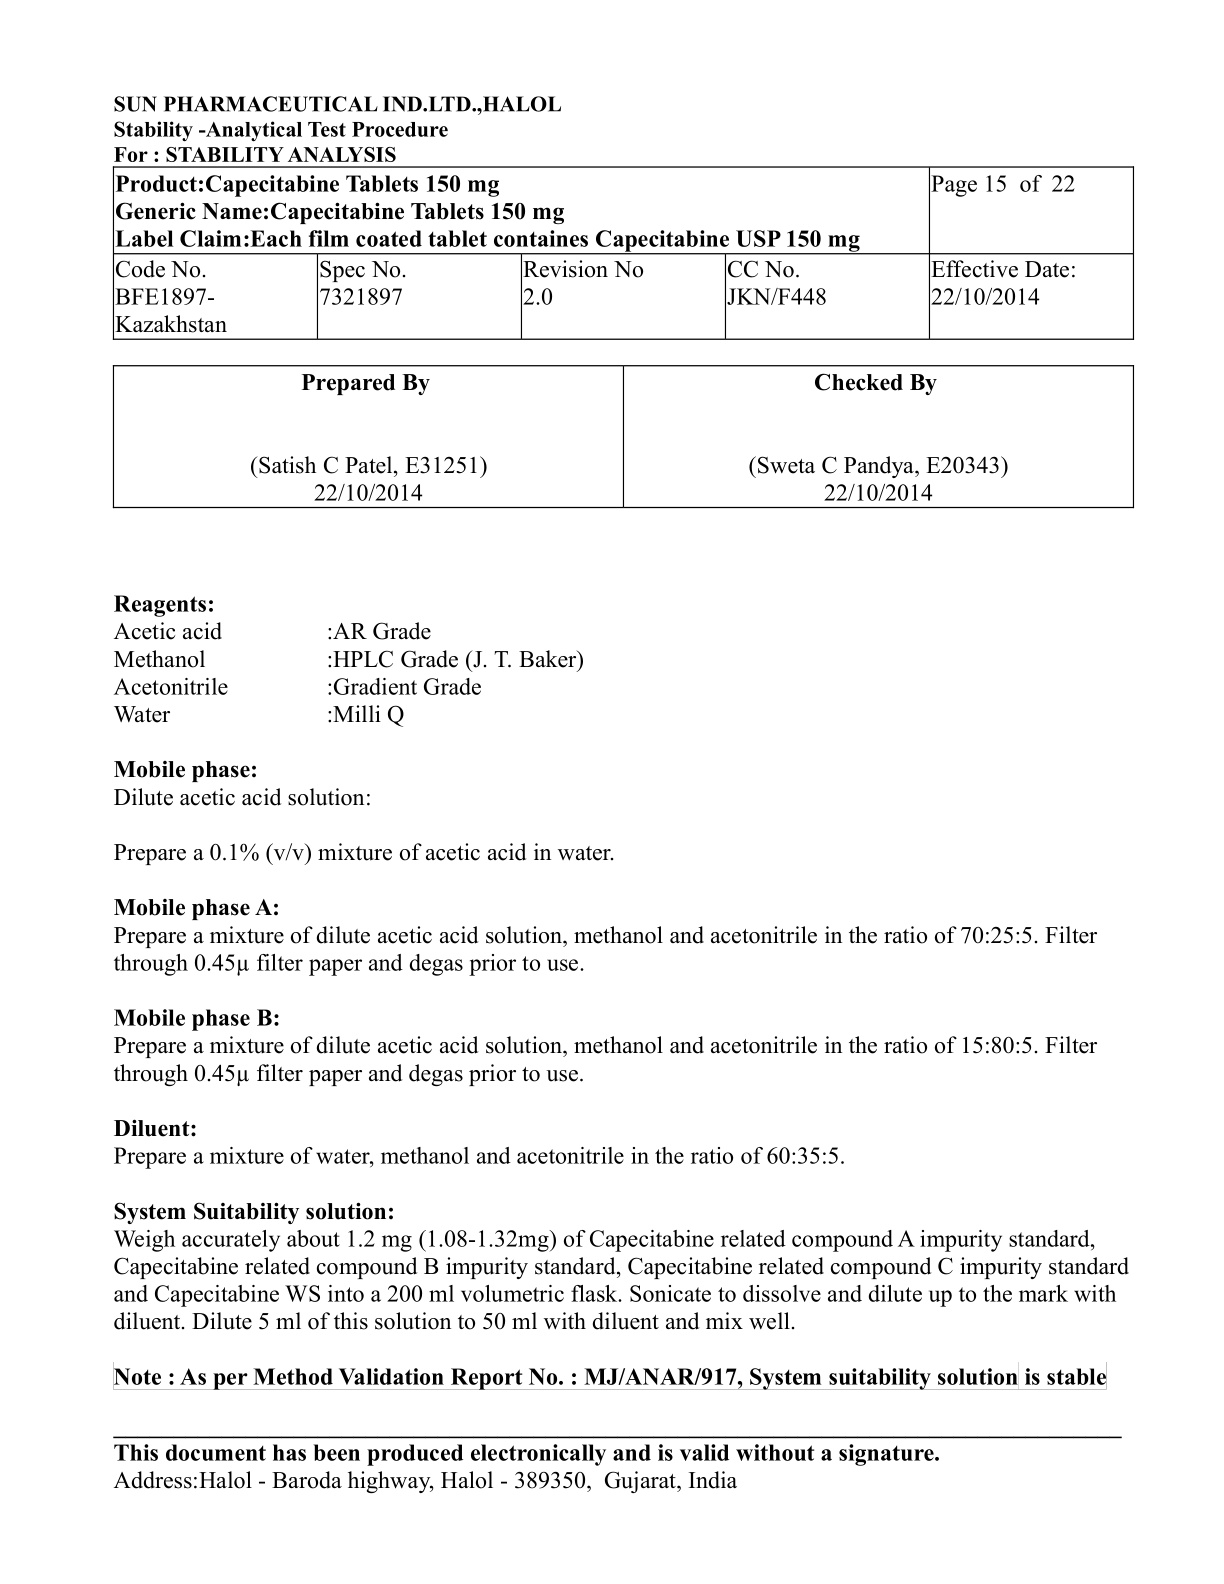full_lined: (112, 363, 1137, 510)
merged_cells: (112, 166, 1137, 341)
nolines: (113, 618, 585, 729)
